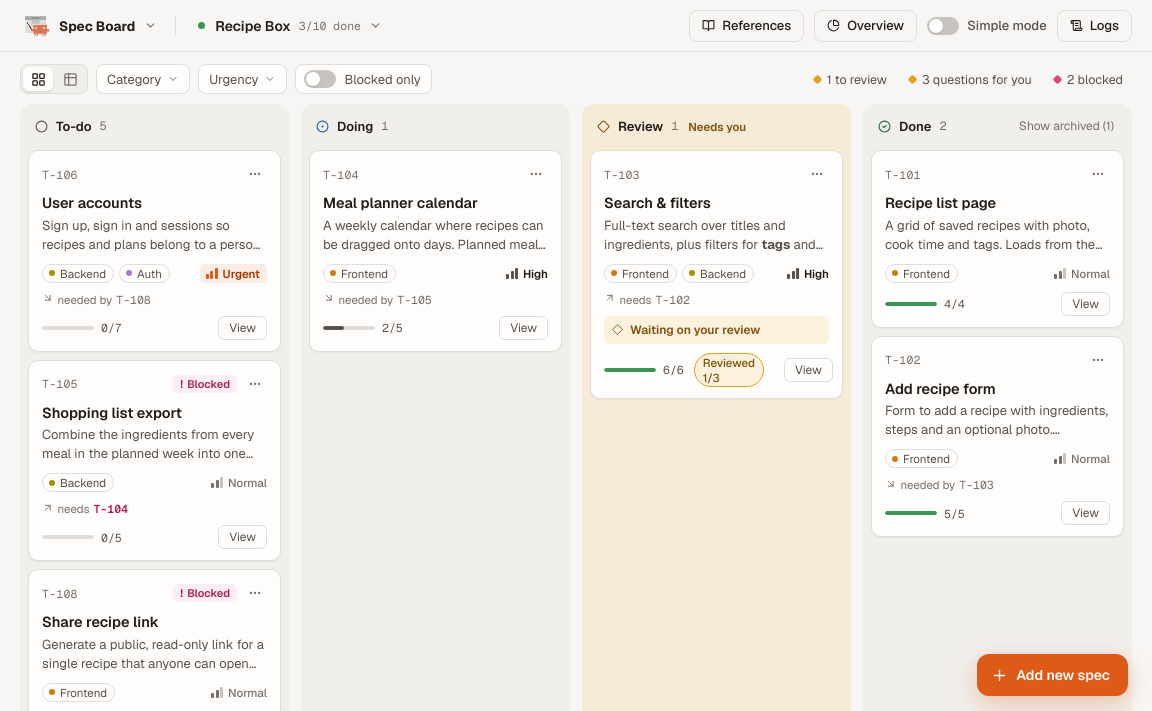
Test: the actions start the right kind › Overview Refresh › a failed refresh says so and leaves Refreshing
The image size is (1152, 711).
Click the button "Overview".
click(866, 26)  # box [814, 10, 917, 42]
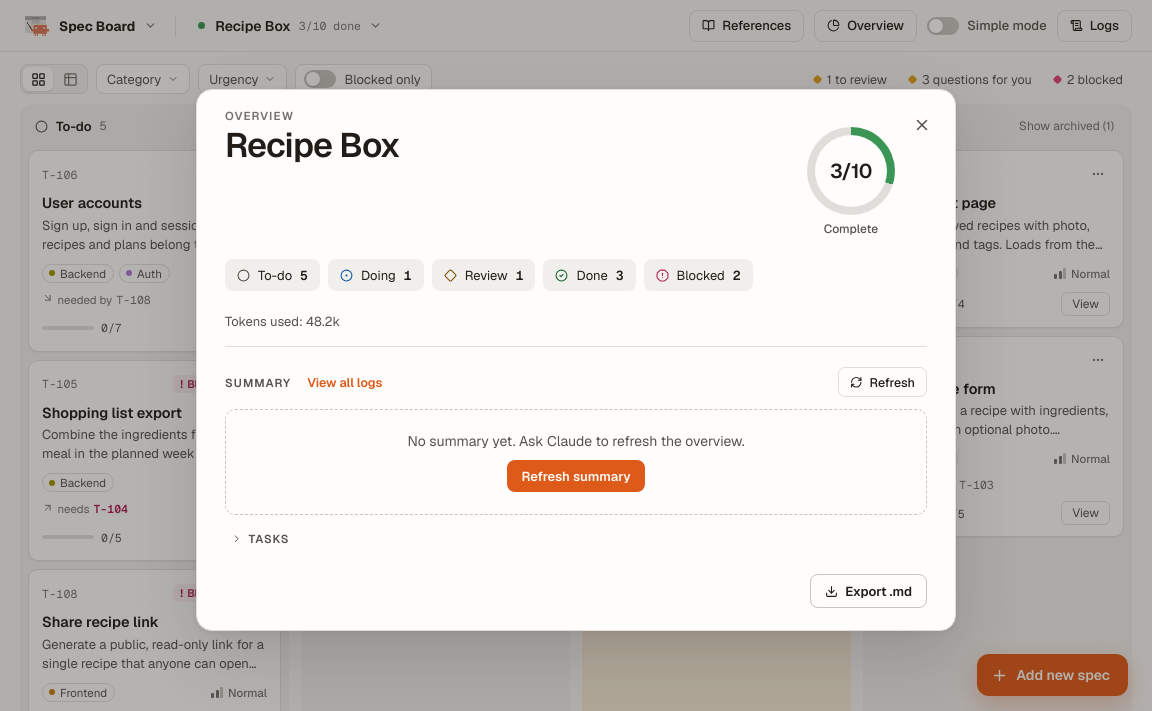
Click the button "Refresh".
click(883, 382)  # box [838, 367, 927, 397]
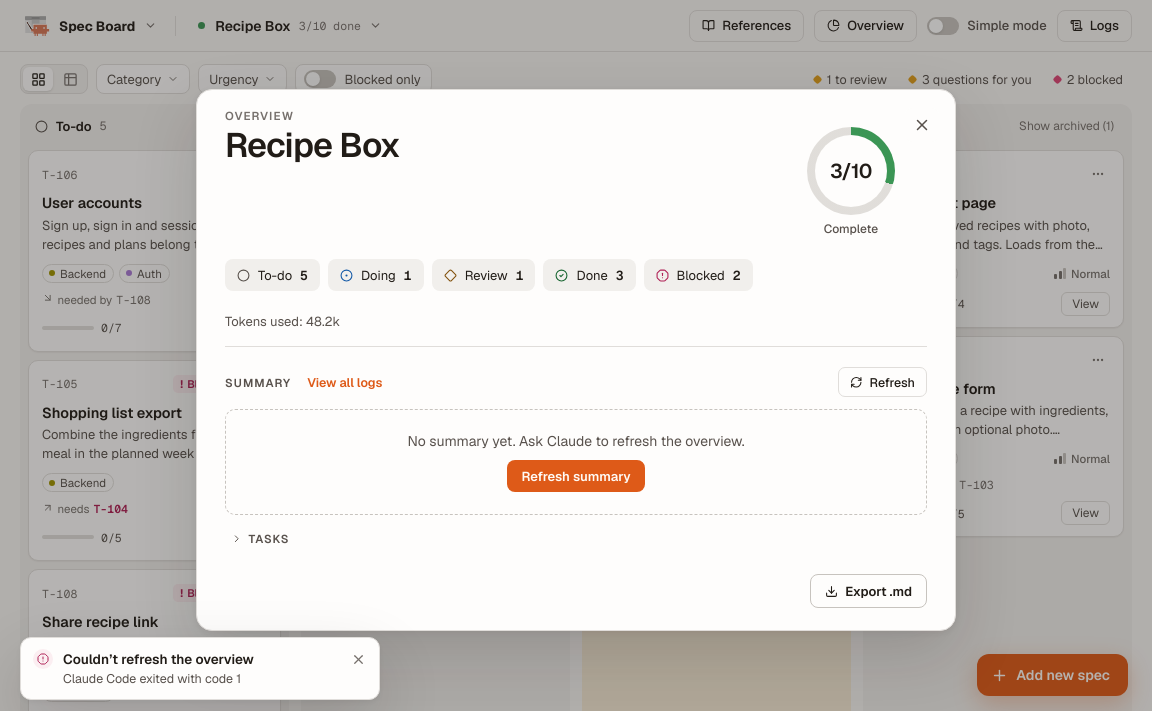
Expected: the button "Refresh" is shown, [838, 367, 927, 397]
Expected: the text "Couldn’t refresh the overview" is shown once, [63, 650, 254, 668]
